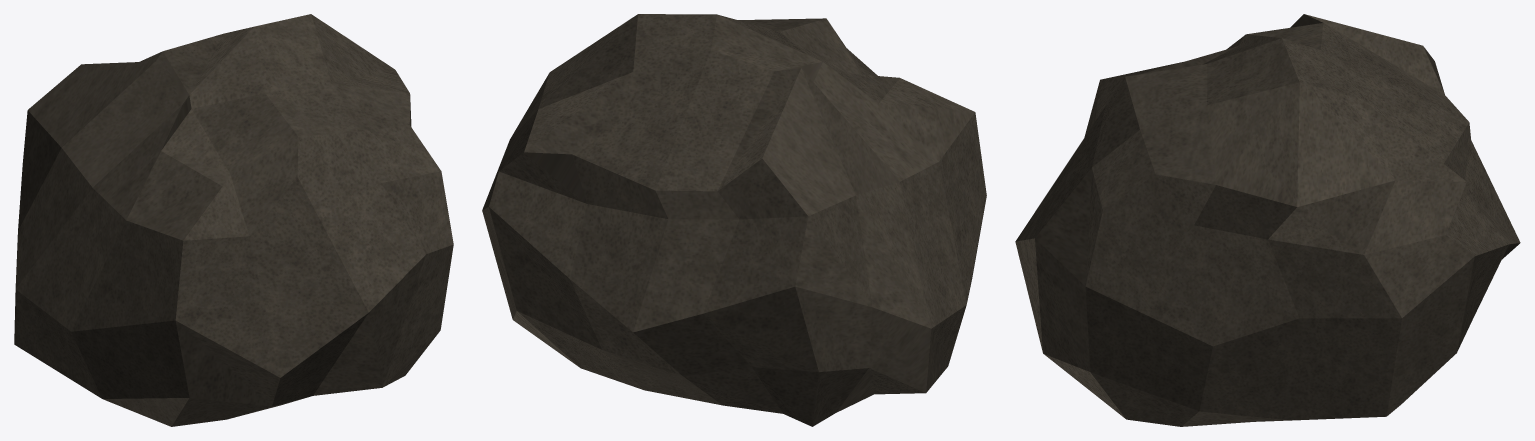
Rendered from Pedra_3_Base.fbx.
3 views of the same model, side by side, from view 1: azimuth 30°, elevation 25°; view 2: azimuth 150°, elevation 25°; view 3: azimuth 270°, elevation 25° (orthographic). The views are drawn at different scales.
Parts seen in each view (by area): view 1: Pedra_3; view 2: Pedra_3; view 3: Pedra_3.
Boxes of the visible parts, bbox=[...] form: Pedra_3: bbox=[14, 14, 453, 426]; Pedra_3: bbox=[482, 14, 986, 426]; Pedra_3: bbox=[1015, 14, 1520, 426].
Size of the model in its own units: 289 by 233 by 308.
1 material, 1 textured.
